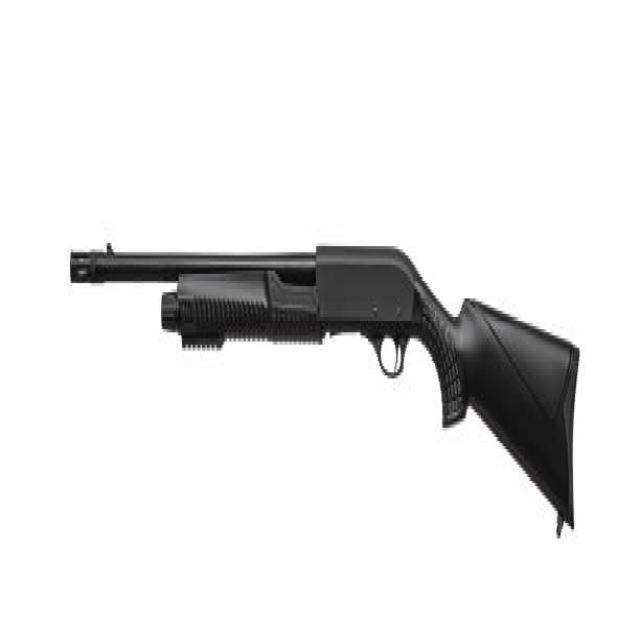rifle: (70, 230, 584, 548)
